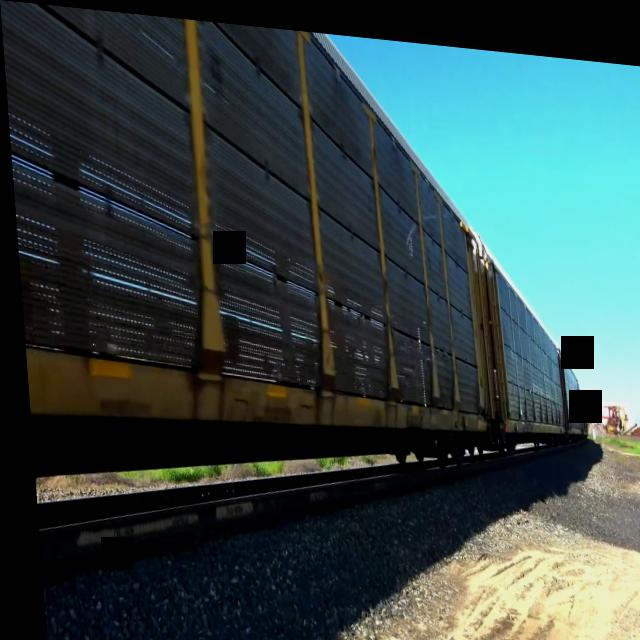autorack: (0, 0, 499, 530), (482, 227, 564, 453)
